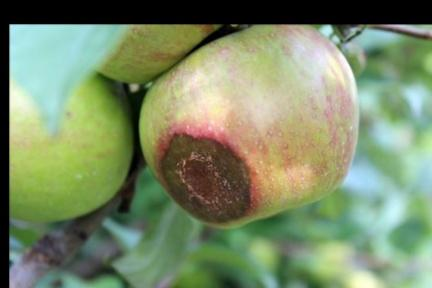rotten apple: (131, 24, 365, 232)
